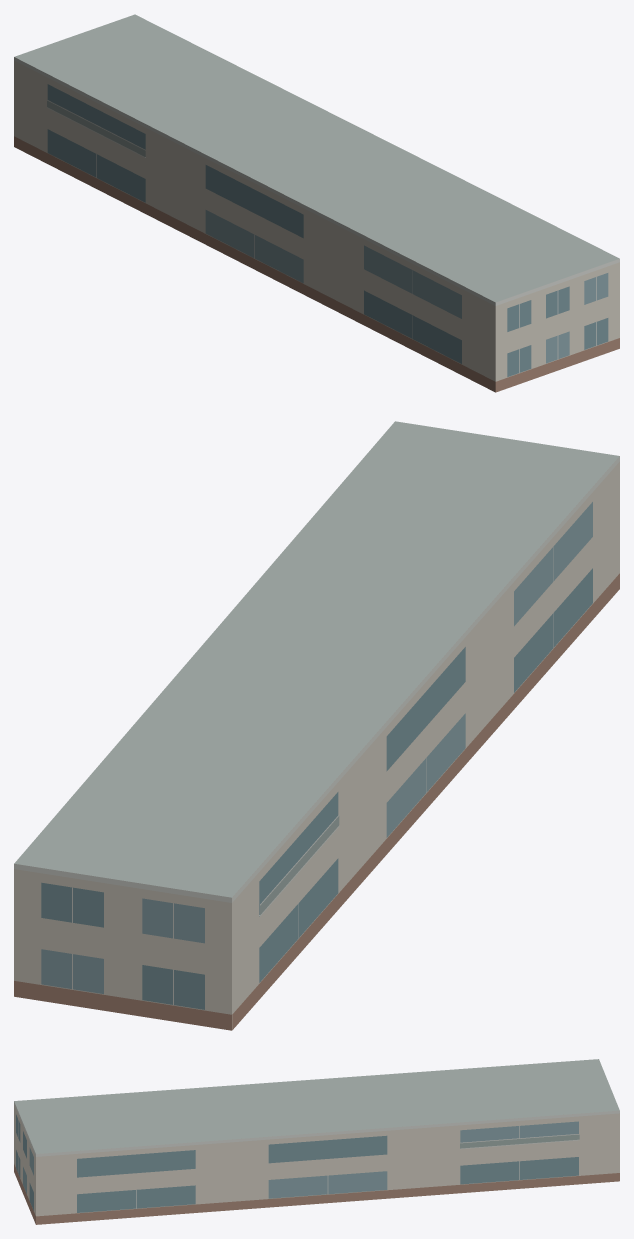
The model's file is survey-upis-32616078.glb.
3 renders of one model, top to bottom at view 1: azimuth 30°, elevation 25°; view 2: azimuth 150°, elevation 25°; view 3: azimuth 270°, elevation 25°, orthographic. The views are drawn at different scales.
Visible parts, largest first — view 1: survey-upis-32616078.tmp; view 2: survey-upis-32616078.tmp; view 3: survey-upis-32616078.tmp.
Boxes of the visible parts, <box> form: survey-upis-32616078.tmp: <box>14,14,619,392</box>; survey-upis-32616078.tmp: <box>14,421,619,1030</box>; survey-upis-32616078.tmp: <box>14,1059,619,1224</box>.
Size of the model in its own units: 17.57 by 6.1 by 47.33.
